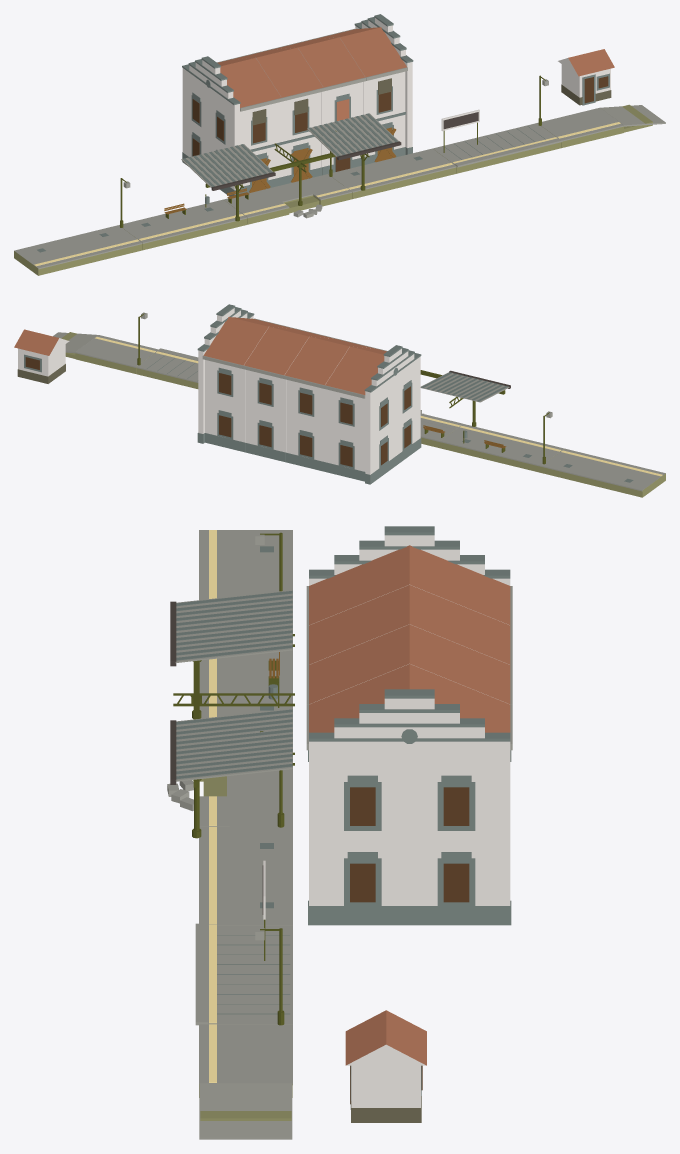
Rendered from SM_EstacionNules_v2_LOD0.fbx.
3 views of the same model, one above another, from view 1: azimuth 30°, elevation 25°; view 2: azimuth 150°, elevation 25°; view 3: azimuth 270°, elevation 25° (orthographic). The views are drawn at different scales.
Parts seen in each view (by area): view 1: SM_bloques.estacion_nules_v2_LOD0; view 2: SM_bloques.estacion_nules_v2_LOD0; view 3: SM_bloques.estacion_nules_v2_LOD0.
Boxes of the visible parts, x1,y1,x2,y2 form: SM_bloques.estacion_nules_v2_LOD0: [14, 14, 665, 275]; SM_bloques.estacion_nules_v2_LOD0: [14, 304, 665, 497]; SM_bloques.estacion_nules_v2_LOD0: [167, 526, 512, 1139].
Size of the model in its own units: 59.99 by 10.96 by 14.75.
